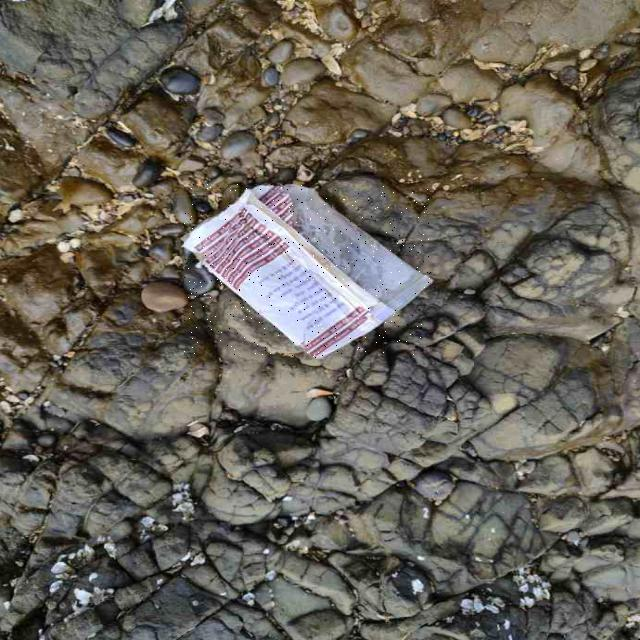wrapper: (184, 184, 431, 357)
